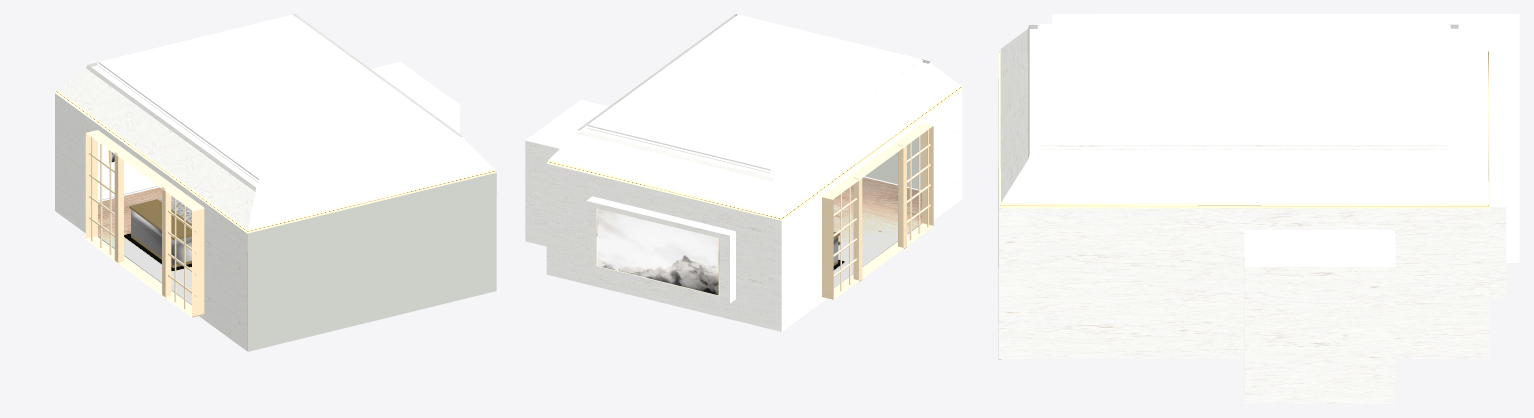
File: LabBeta.compressed.glb
3 renders of one model, left to right at view 1: azimuth 30°, elevation 25°; view 2: azimuth 150°, elevation 25°; view 3: azimuth 270°, elevation 25°, orthographic. The views are drawn at different scales.
Visible parts, largest first — view 1: Modern Living Room, Cube, pCube1, pCube1.001; view 2: Modern Living Room, Cube; view 3: Modern Living Room.
Boxes of the visible parts, x1,y1,x2,y2 form: Modern Living Room: (55,14,496,351); Cube: (247,173,496,351); pCube1: (131,209,191,264); pCube1.001: (129,199,191,267); Modern Living Room: (525,14,962,331); Cube: (865,134,921,190); Modern Living Room: (998,14,1519,403).
Size of the model in its own units: 33.02 by 20.06 by 34.52.
Materials: 19 (10 with a texture image).
